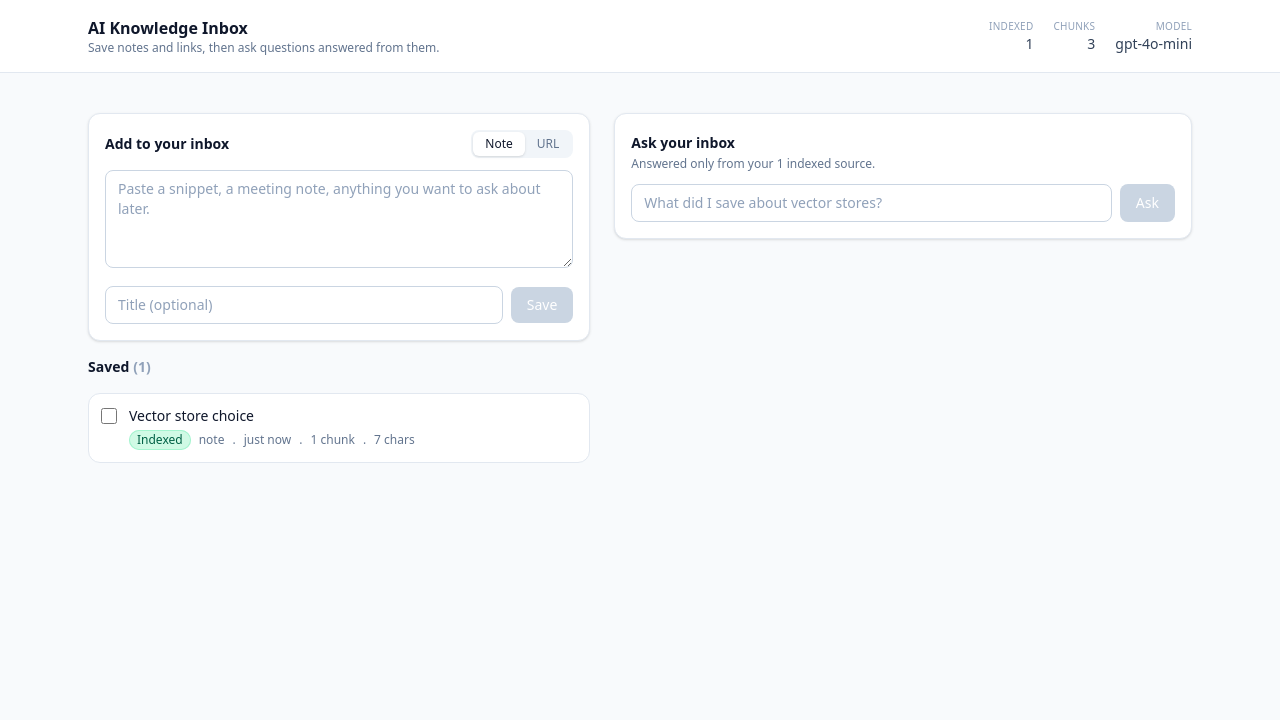
Test: App › asks a question and renders the cited answer
Expected: the text "Vector store choice" is shown, top-left (129, 406), bottom-right (254, 425)
Step 1. Type "where are vectors stored?" into the field labelled "Ask your inbox" → (872, 203), box top-left (631, 184), bottom-right (1112, 222)
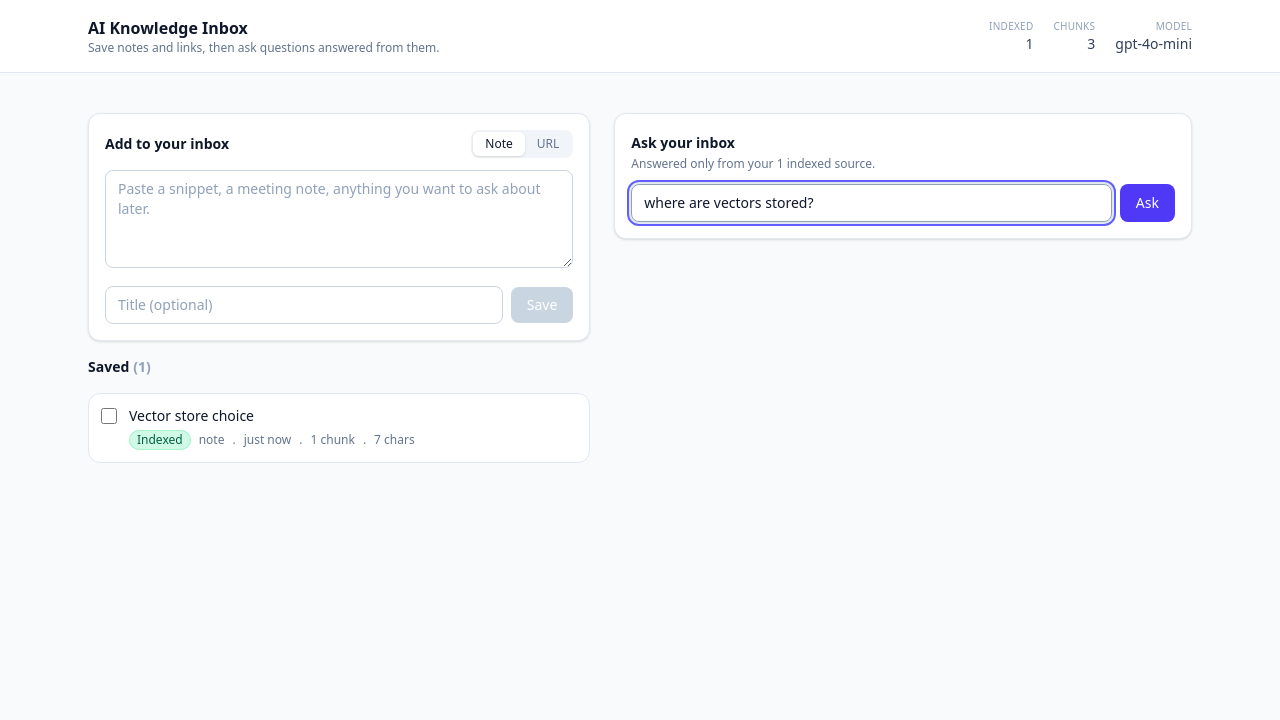
Step 2. Click the button "Ask" → (1147, 203), box top-left (1120, 184), bottom-right (1175, 222)
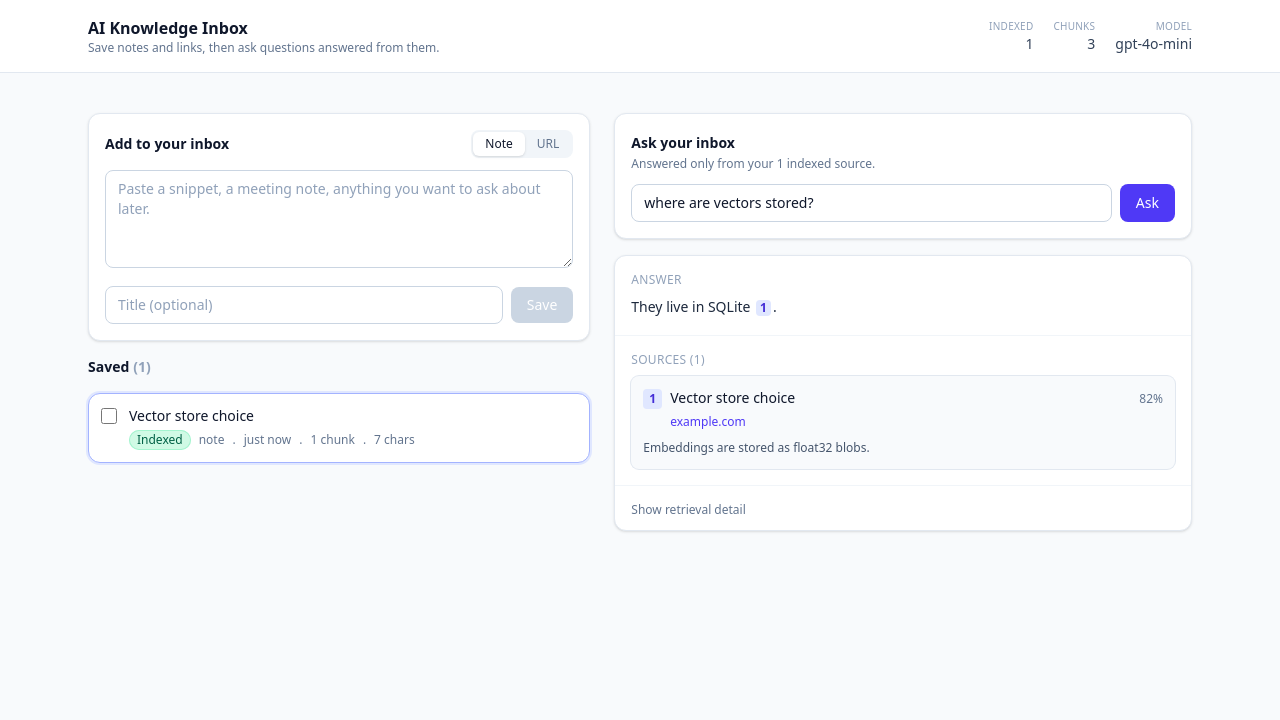
Expected: the element labelled "Answer" shows "They live in SQLite", top-left (631, 297), bottom-right (754, 316)
Expected: the text "Sources (1)" is shown, top-left (631, 351), bottom-right (705, 368)
